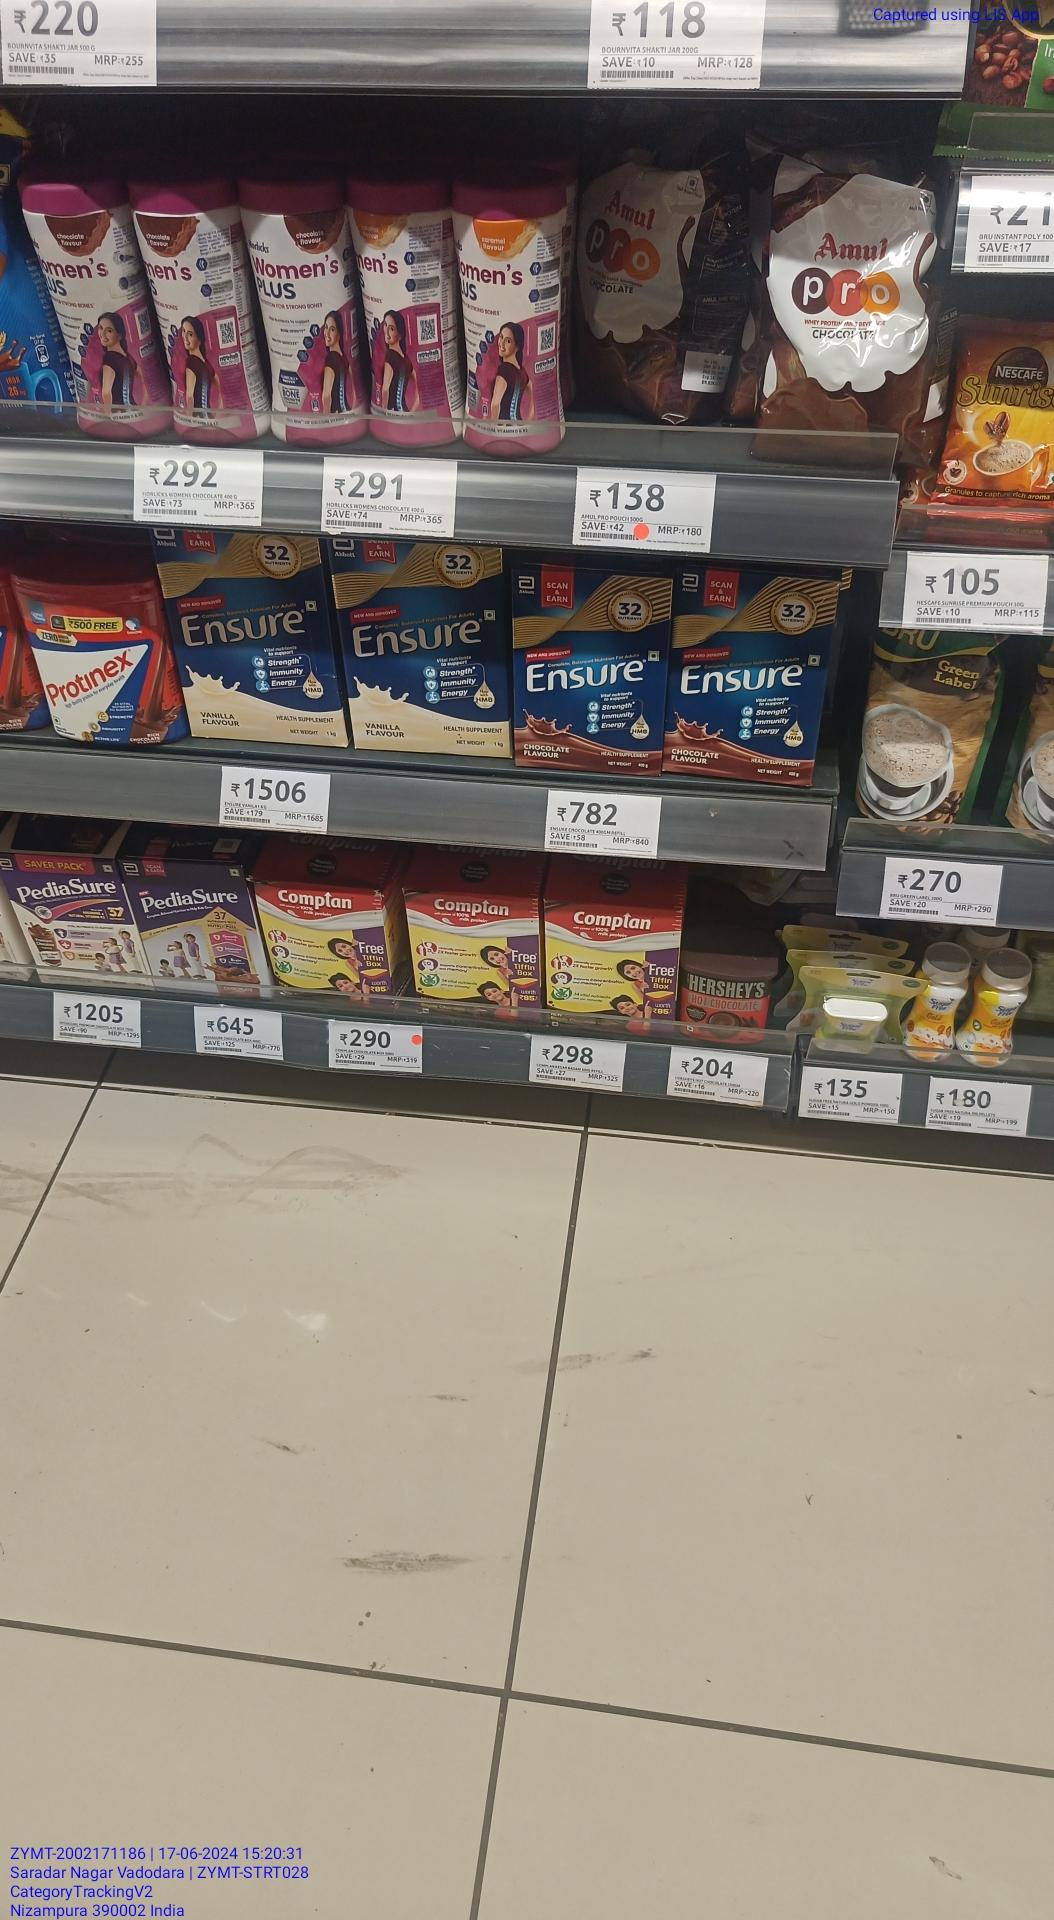COMPLAN_CHOCOLATE_500_GMS_PACK: (413, 895, 546, 1027), (545, 906, 679, 1034), (265, 885, 396, 1008)
ENSURE_VANILLA_400_G_PACK: (182, 529, 339, 751), (344, 538, 508, 750)
PEDIASURE_CHOCOLATE_500_G_PACK: (140, 856, 261, 1002)
PROTINEX_ORIGINAL_400_G_JAR: (22, 558, 179, 746)
